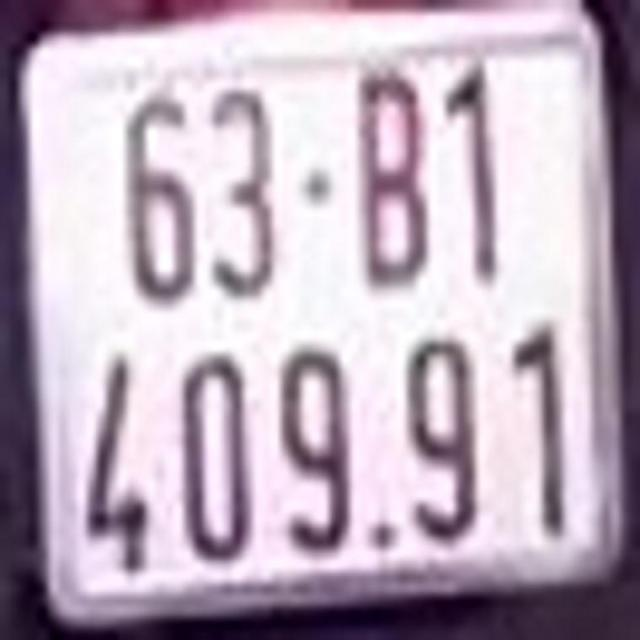0: (178, 362, 250, 549)
1: (516, 316, 580, 540), (440, 61, 503, 286)
3: (214, 83, 278, 295)
4: (80, 352, 162, 573)
6: (125, 96, 199, 306)
9: (278, 337, 360, 553), (406, 341, 484, 538)
B: (361, 72, 432, 290)
